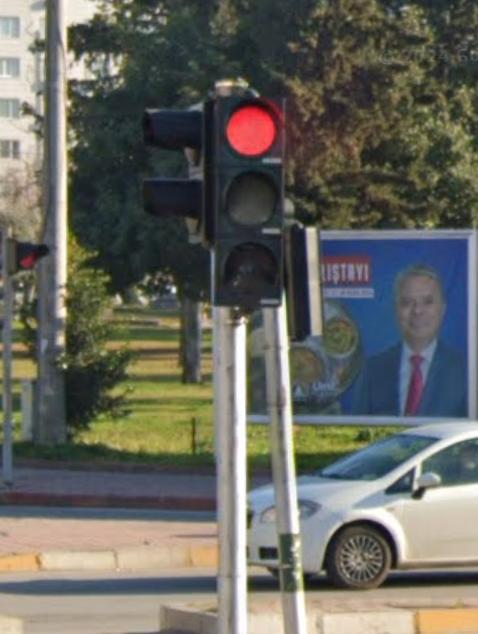greenlight: (218, 92, 279, 302)
